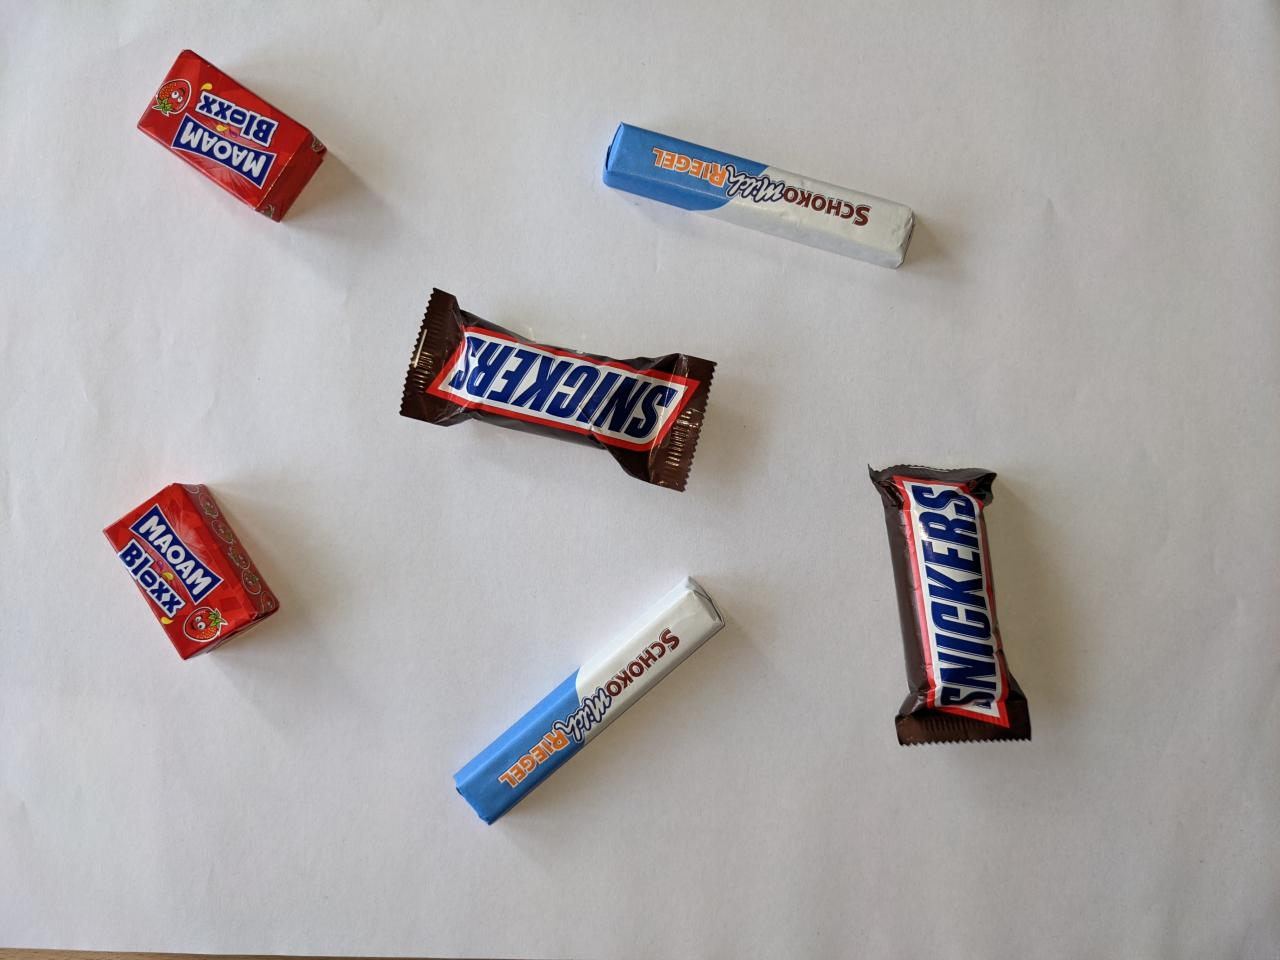MAOAM: (128, 42, 334, 227), (96, 476, 287, 666)
Schokoriegel: (440, 570, 734, 839), (591, 109, 931, 277)
Snickers: (389, 285, 725, 499), (858, 449, 1046, 758)
